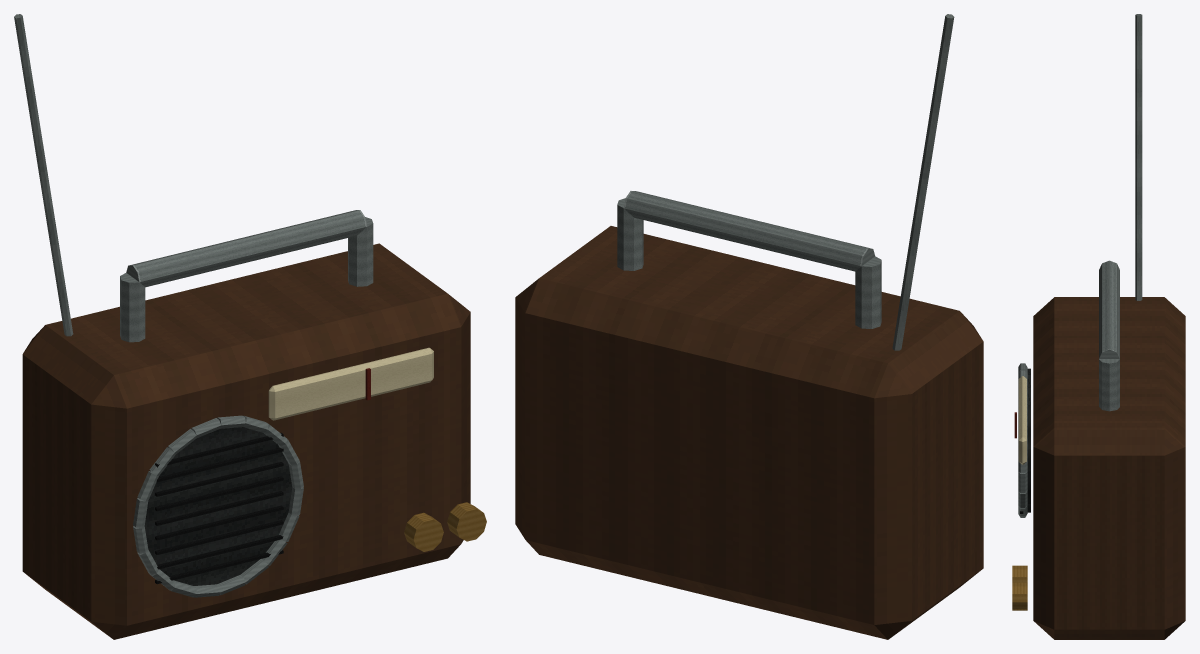
The model's file is level_event_radio.glb.
The picture shows the model from 3 angles, left to right: view 1: azimuth 30°, elevation 25°; view 2: azimuth 150°, elevation 25°; view 3: azimuth 270°, elevation 25°; orthographic projection. The views are drawn at different scales.
Visible parts, largest first — view 1: level_event_radio; view 2: level_event_radio; view 3: level_event_radio.
Part boxes in pixels (box(x1,y1,x2,y2)): level_event_radio: box(14, 14, 486, 639); level_event_radio: box(515, 14, 983, 639); level_event_radio: box(1012, 14, 1185, 639).
Bounding box in the file's own units: 0.3186 × 0.4504 × 0.148.
Materials: 7 (7 with a texture image).
